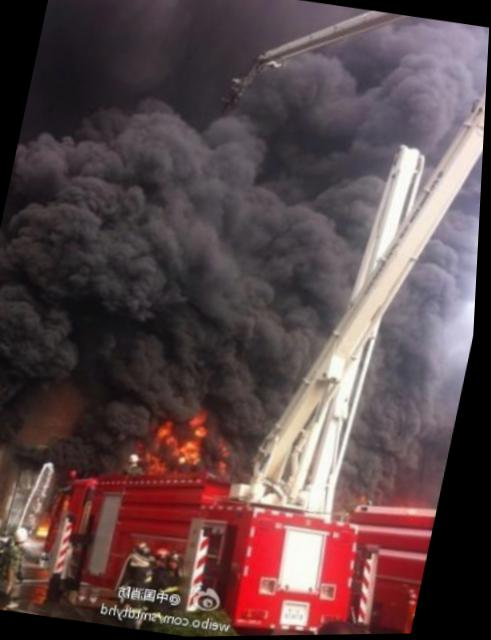fire: (149, 416, 191, 473), (187, 408, 219, 462)
